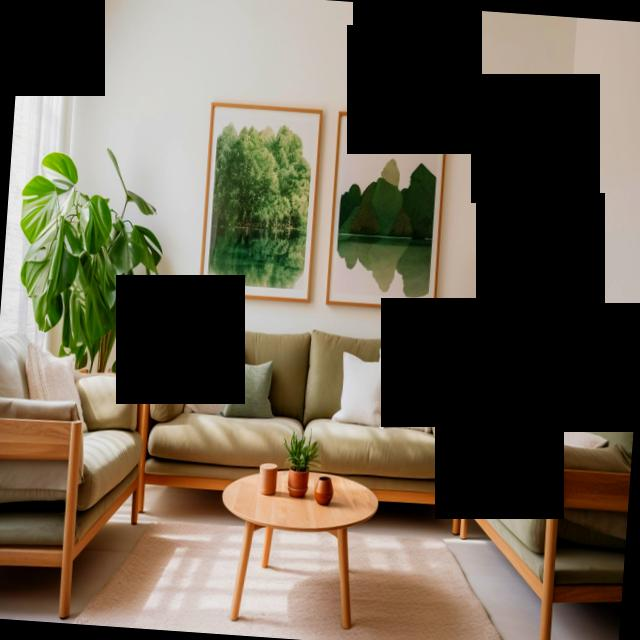natural desk: (214, 466, 380, 632)
natural sofa: (447, 349, 638, 640), (144, 316, 468, 480), (0, 325, 157, 625)
